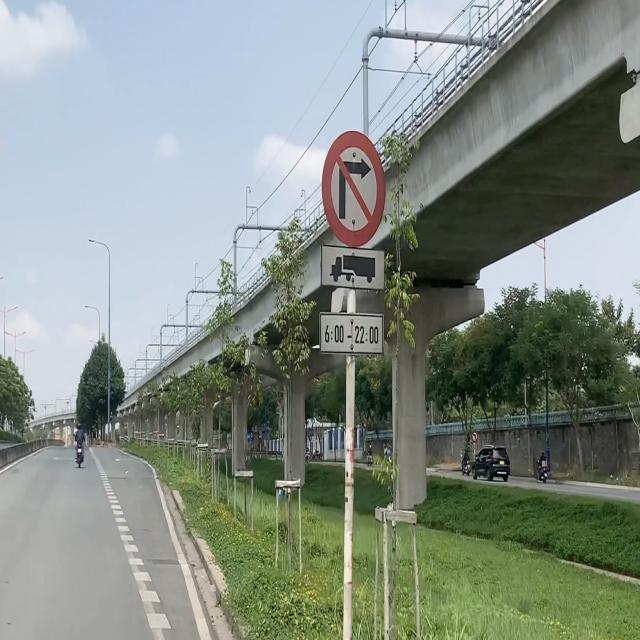Cam re phai: (321, 116, 385, 244)
